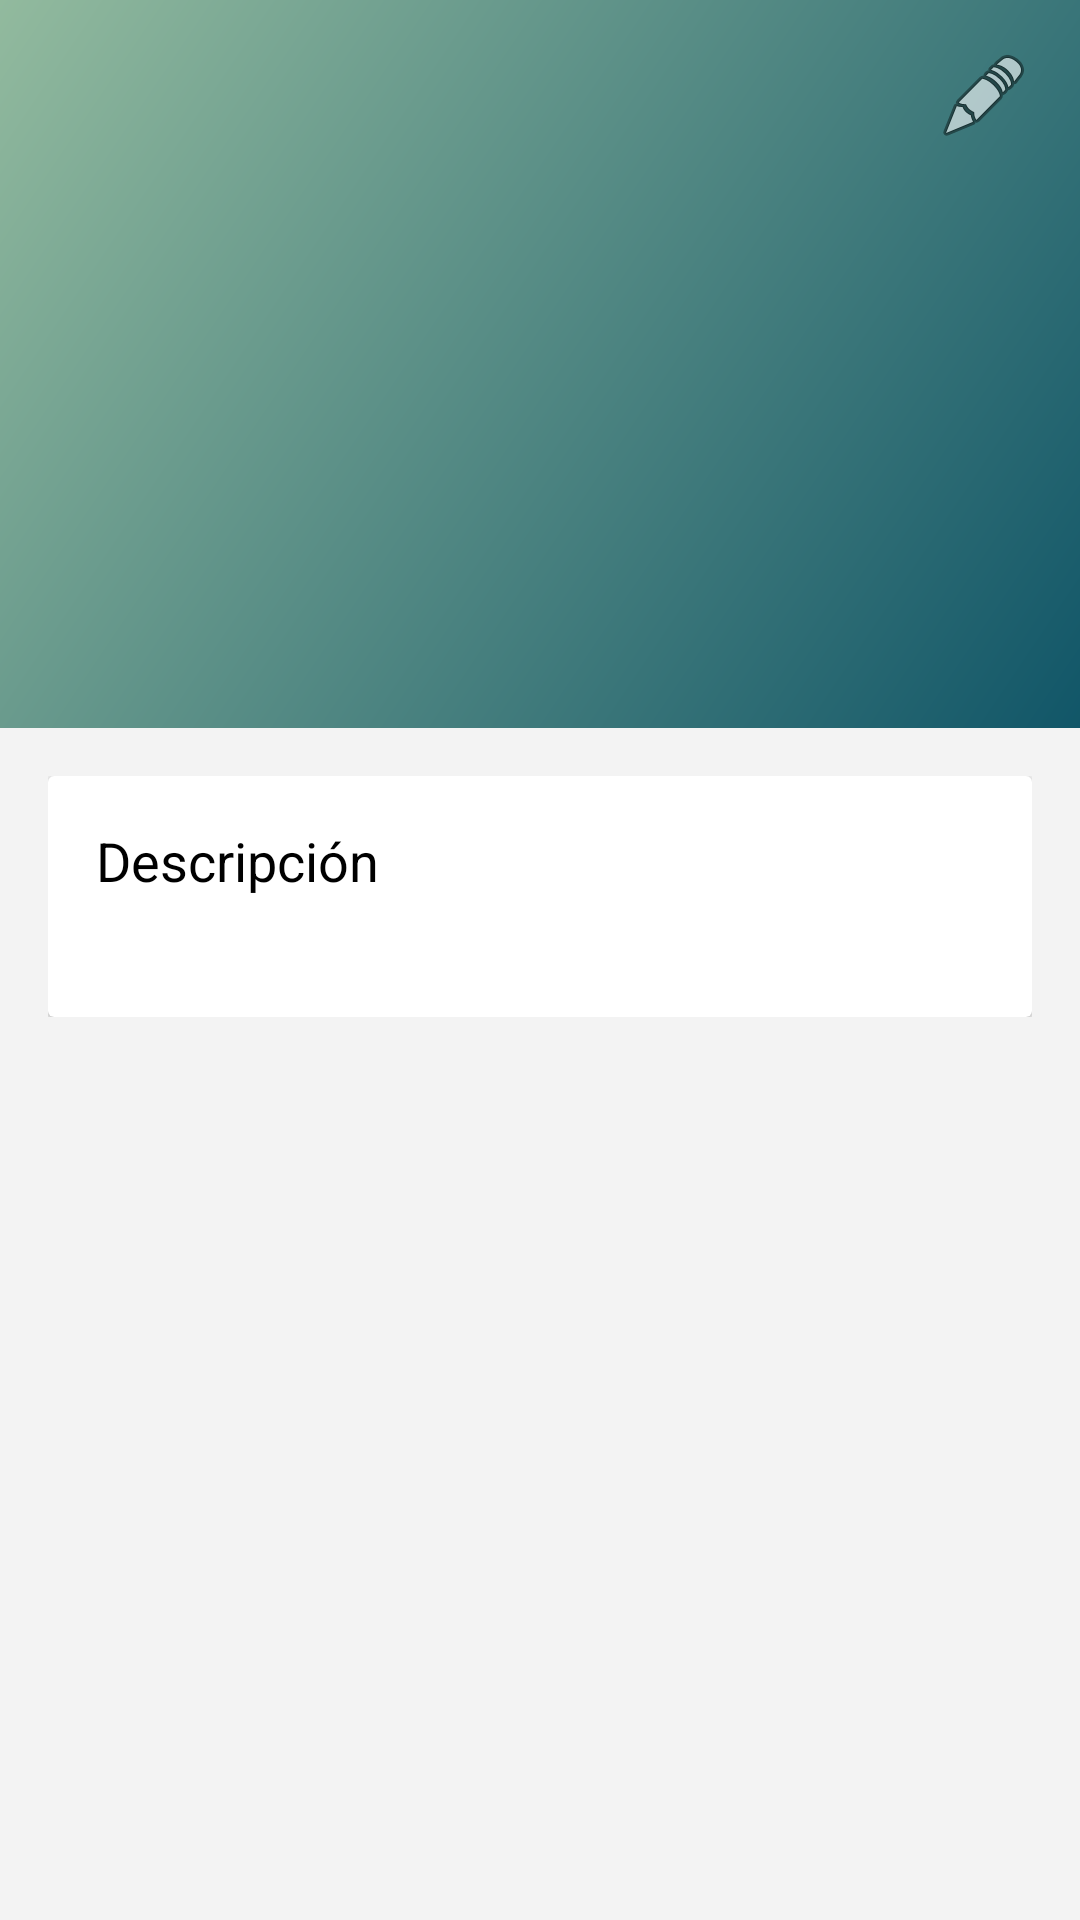

Where to tap for icons on this 1080*1920 app screen, as [x,y]:
Editar perfil: [983,95]
